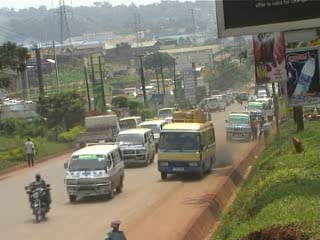Car: (158, 114, 177, 128)
Motorcycle: (24, 173, 54, 227)
